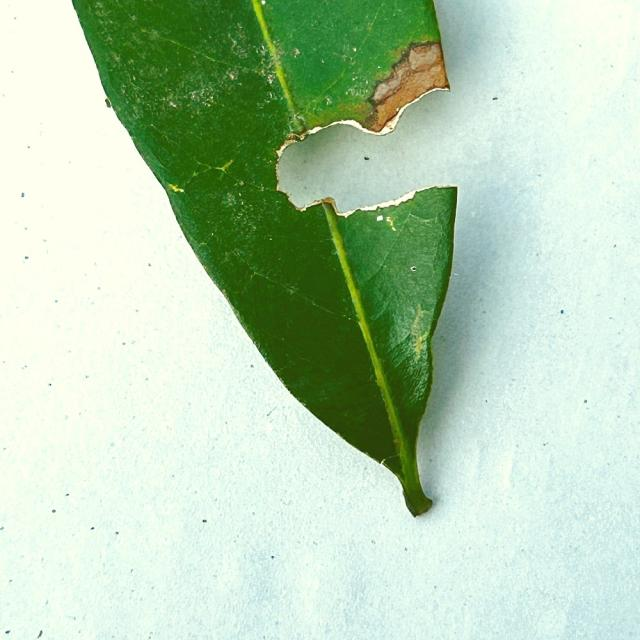Deficiency Leaf: (278, 95, 438, 215)
Lychee: (70, 0, 458, 520)
